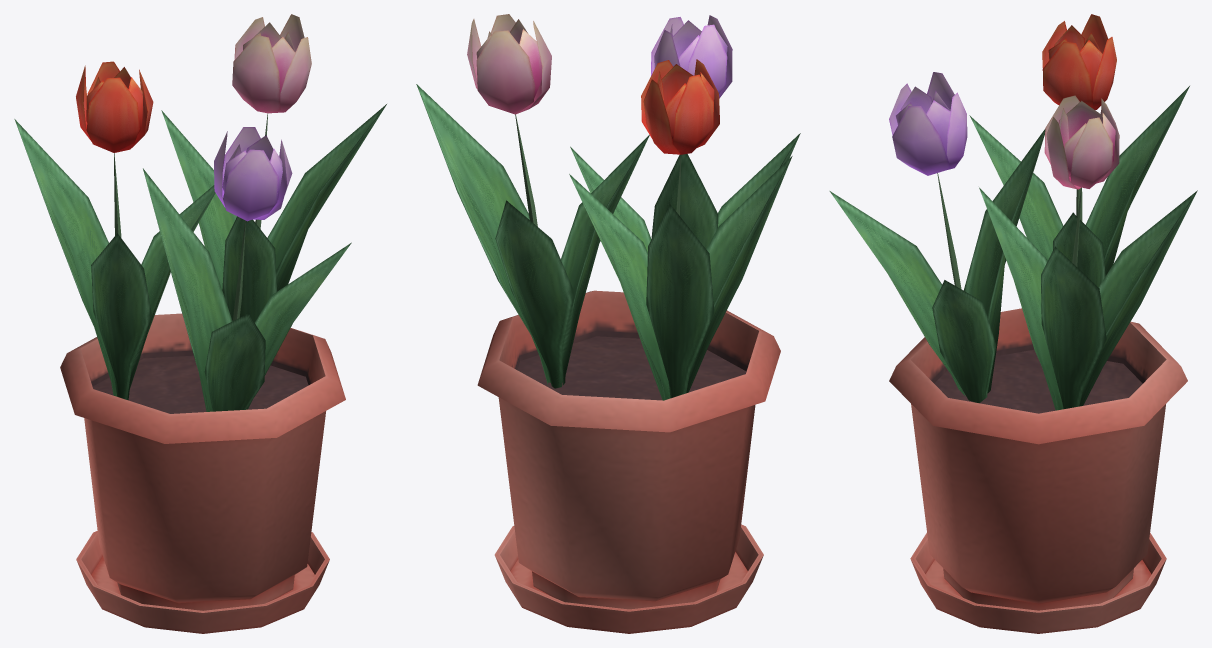
File: set_pot_02.fbx
3 renders of one model, left to right at view 1: azimuth 30°, elevation 25°; view 2: azimuth 150°, elevation 25°; view 3: azimuth 270°, elevation 25°, orthographic. The views are drawn at different scales.
Visible parts, largest first — view 1: flowerpot_02, saucer_02; view 2: flowerpot_02, saucer_02; view 3: flowerpot_02, saucer_02.
Part boxes in pixels (x1=…): flowerpot_02: x1=14, y1=14, x2=386, y2=610; saucer_02: x1=76, y1=531, x2=329, y2=633; flowerpot_02: x1=416, y1=14, x2=800, y2=609; saucer_02: x1=494, y1=524, x2=763, y2=633; flowerpot_02: x1=829, y1=14, x2=1197, y2=610; saucer_02: x1=910, y1=532, x2=1166, y2=633.
Size of the model in its own units: 29.95 by 46.54 by 29.51.
